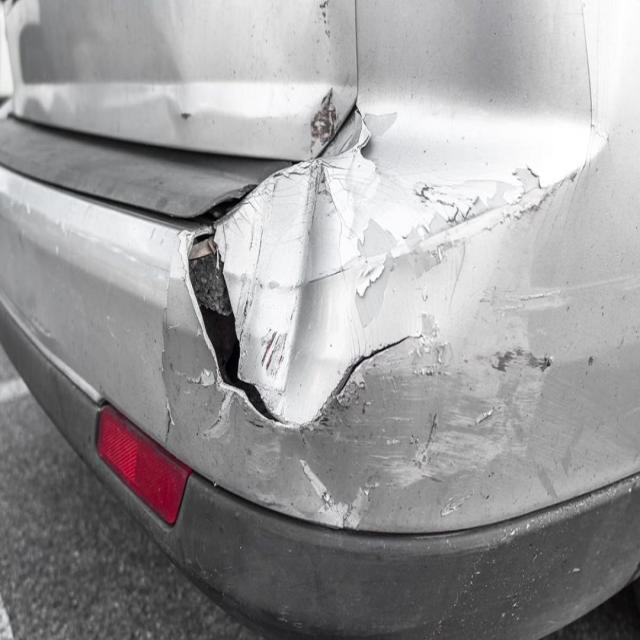dent: (97, 21, 192, 150)
scratch: (159, 0, 640, 538), (318, 0, 334, 41), (178, 110, 194, 122)
tear: (179, 218, 410, 434)
